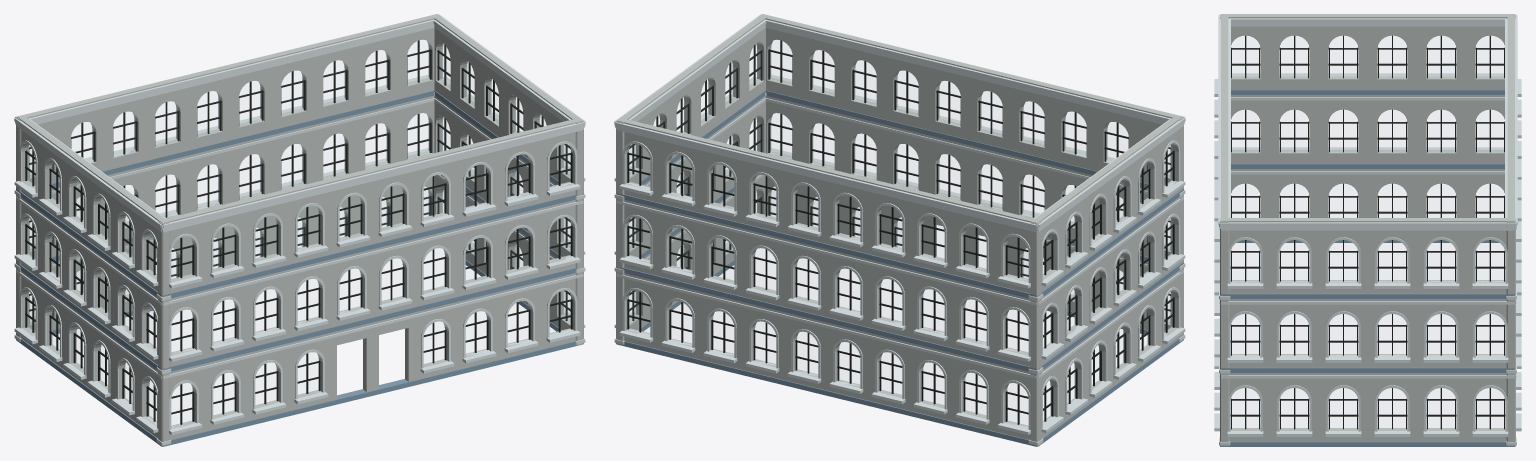
The model's file is gh_warehouse_v01.glb.
The picture shows the model from 3 angles, left to right: view 1: azimuth 30°, elevation 25°; view 2: azimuth 150°, elevation 25°; view 3: azimuth 270°, elevation 25°; orthographic projection.
Visible parts, largest first — view 1: level_2_front, level_2_back, level_1_front, level_0_front, level_2_sides, level_1_back, level_1_sides, level_0_sides, structural_corner_pilasters, level_0_back; view 2: level_2_back, level_2_front, level_1_back, level_0_back, level_2_sides, level_1_front, level_1_sides, level_0_sides, structural_corner_pilasters, level_0_front; view 3: level_2_sides, level_1_sides, level_0_sides, structural_corner_pilasters, level_2_back, level_2_front, level_1_back, level_1_front, level_0_back, level_0_front.
Part boxes in pixels (x1,y1,x2,y2): level_2_front: (157,118,584,298); level_2_back: (15,14,440,188); level_1_front: (163,200,583,371); level_0_front: (163,273,583,446); level_2_sides: (14,14,585,296); level_1_back: (28,96,434,261); level_1_sides: (14,96,585,369); level_0_sides: (14,175,585,446); structural_corner_pilasters: (14,14,585,446); level_0_back: (28,177,432,335); level_2_back: (615,118,1042,298); level_2_front: (759,14,1184,188); level_1_back: (616,200,1036,371); level_0_back: (616,273,1036,446); level_2_sides: (614,14,1185,296); level_1_front: (765,96,1171,261); level_1_sides: (614,96,1185,369); level_0_sides: (614,175,1185,446); structural_corner_pilasters: (614,14,1185,446); level_0_front: (767,177,1171,335); level_2_sides: (1220,14,1515,298); level_1_sides: (1221,95,1514,372); level_0_sides: (1221,169,1514,446); structural_corner_pilasters: (1219,14,1516,446); level_2_back: (1505,14,1521,283); level_2_front: (1214,14,1230,283); level_1_back: (1516,159,1521,357); level_1_front: (1214,159,1219,357); level_0_back: (1516,295,1521,431); level_0_front: (1214,295,1219,431).
Size of the model in its own units: 30.81 by 15.24 by 18.81.
Materials: 2 (1 with a texture image).
